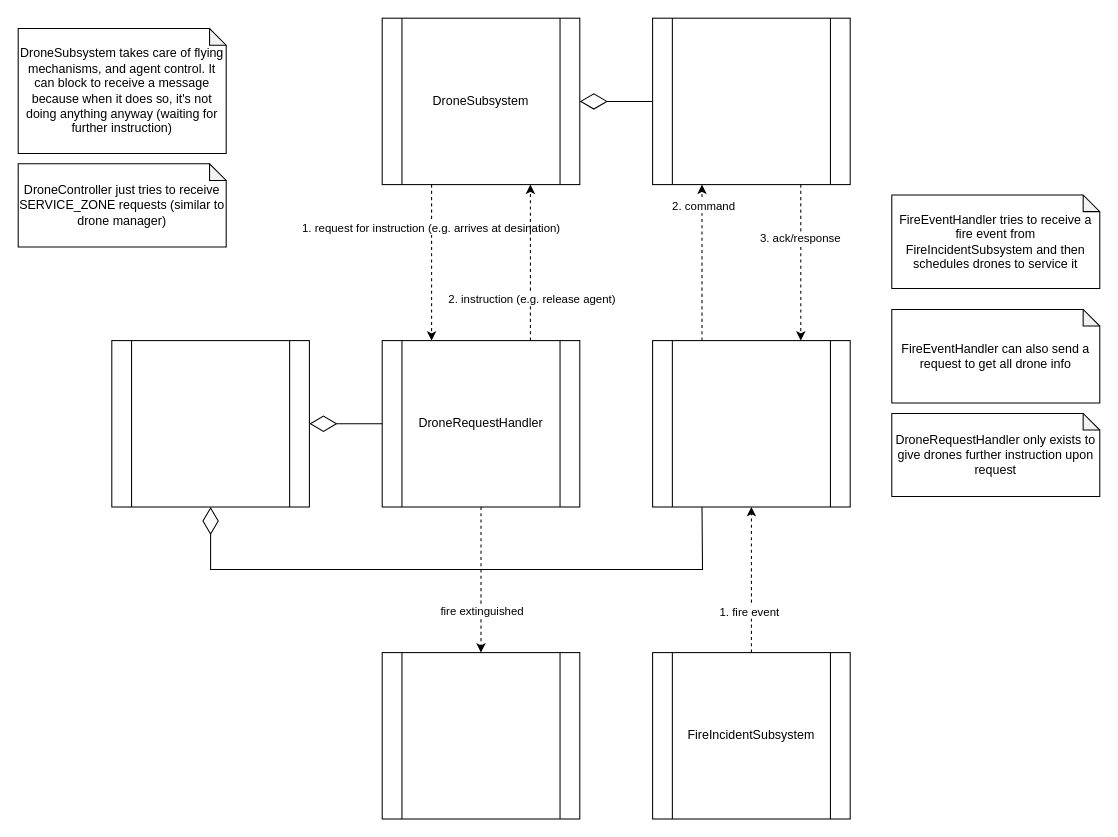
Some shapes in this 1118 by 837 pixel diagram are drawn without their labels. Here are the shapes that lost their labels. From the top down, the box of each, then its label:
(652, 17, 850, 185): DroneController
(111, 340, 309, 507): Scheduler
(652, 340, 850, 507): FireEventHandler
(381, 652, 580, 819): FireStatusMonitor
